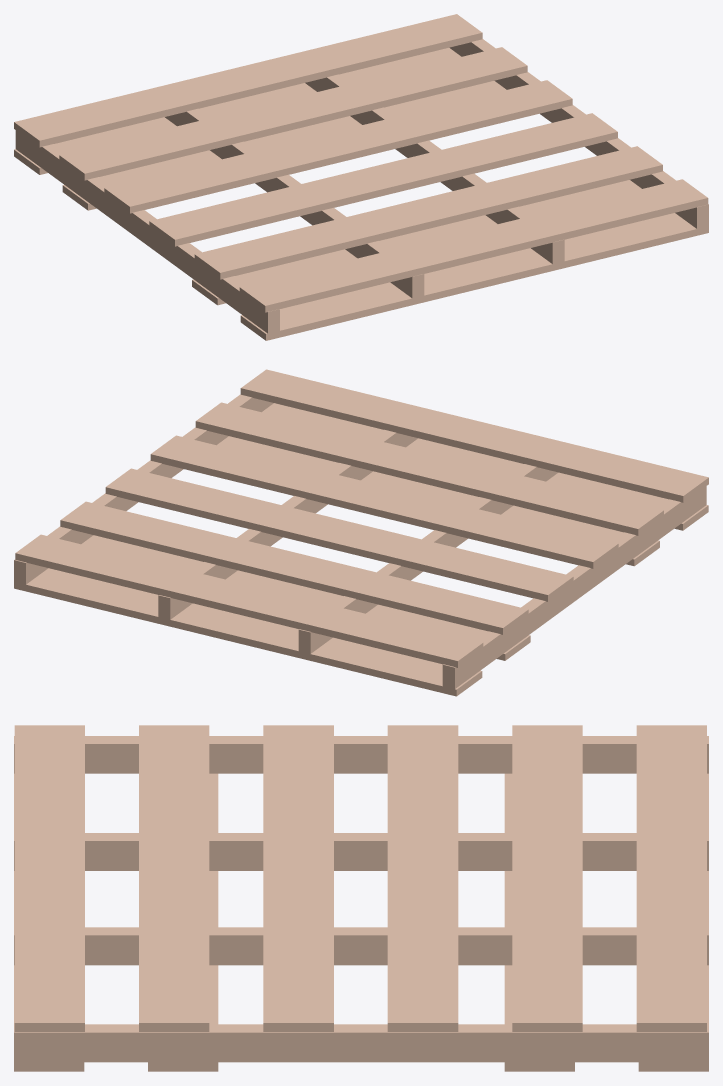
Rendered from Pallete.fbx.
3 renders of one model, top to bottom at view 1: azimuth 30°, elevation 25°; view 2: azimuth 150°, elevation 25°; view 3: azimuth 270°, elevation 25°, orthographic. The views are drawn at different scales.
Parts seen in each view (by area): view 1: Pallete; view 2: Pallete; view 3: Pallete.
Boxes of the visible parts, x1,y1,x2,y2 form: Pallete: (14, 14, 708, 340); Pallete: (14, 369, 708, 696); Pallete: (14, 725, 708, 1071).
Size of the model in its own units: 233 by 17.59 by 229.
